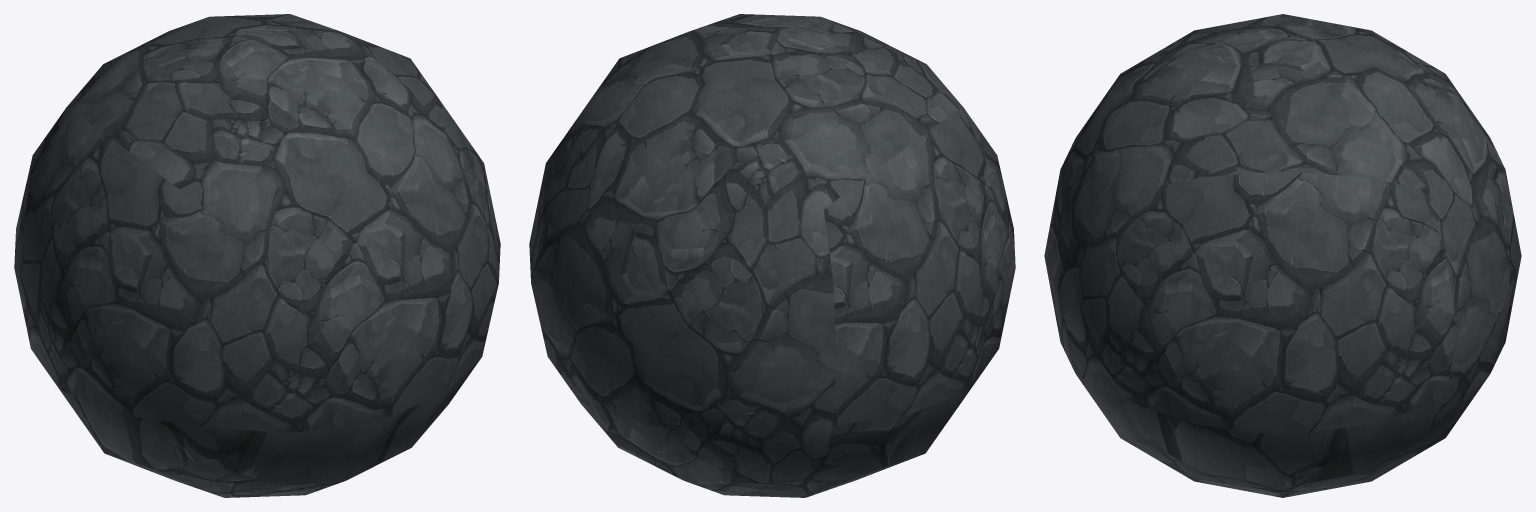
File: rboulder.fbx
3 views of the same model, side by side, from view 1: azimuth 30°, elevation 25°; view 2: azimuth 150°, elevation 25°; view 3: azimuth 270°, elevation 25° (orthographic).
Parts seen in each view (by area): view 1: pCube14; view 2: pCube14; view 3: pCube14.
Part boxes in pixels (<box>): pCube14: <box>14,14,500,497</box>; pCube14: <box>529,14,1015,497</box>; pCube14: <box>1044,14,1521,497</box>.
Size of the model in its own units: 0.0375 by 0.0375 by 0.0375.
1 material, 1 textured.
